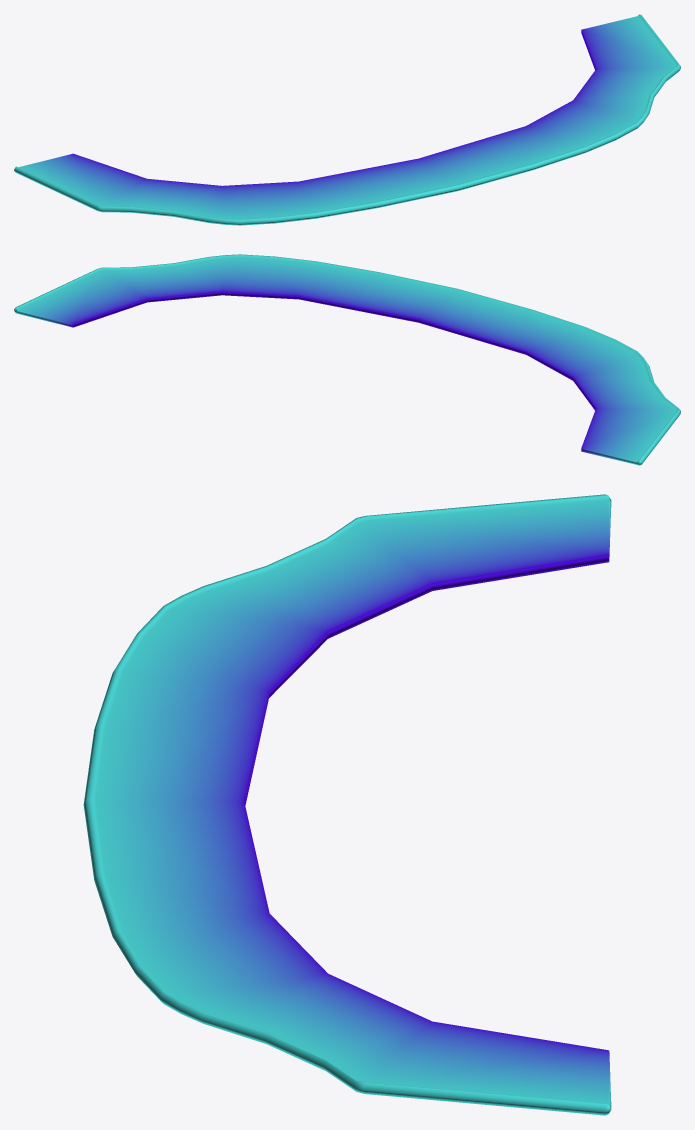
Rendered from Car_Nissan_SkylineGTRVspecR34_1999_Splitter_SetBB.fbx.
3 views of the same model, one above another, from view 1: azimuth 30°, elevation 25°; view 2: azimuth 150°, elevation 25°; view 3: azimuth 270°, elevation 25° (orthographic). The views are drawn at different scales.
Visible parts, largest first — view 1: Splitter 6; view 2: Splitter 6; view 3: Splitter 6.
Boxes of the visible parts, <box> form: Splitter 6: <box>14,14,680,225</box>; Splitter 6: <box>14,254,680,465</box>; Splitter 6: <box>83,494,611,1115</box>.
Bounding box in the file's own units: 1.87 × 0.0147 × 0.6799.
